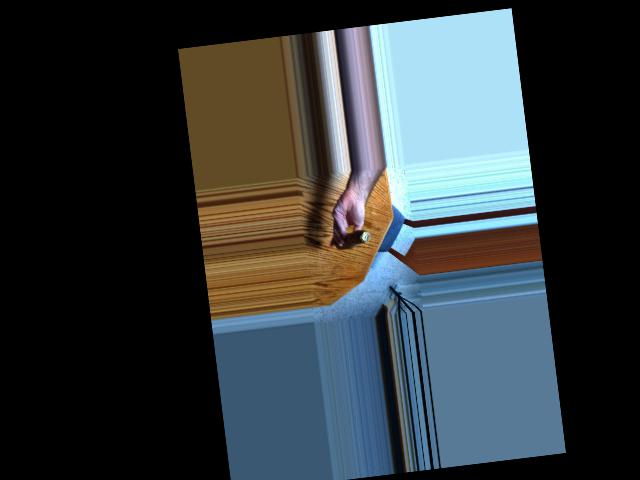sweet_potato: (331, 219, 376, 252)
